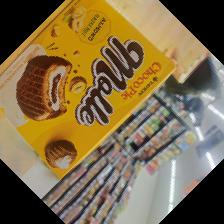Molle: (1, 1, 177, 183)
